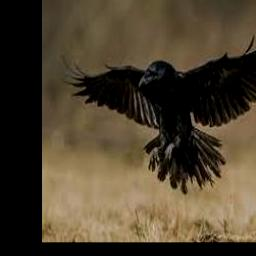Crow: (60, 24, 256, 193)
